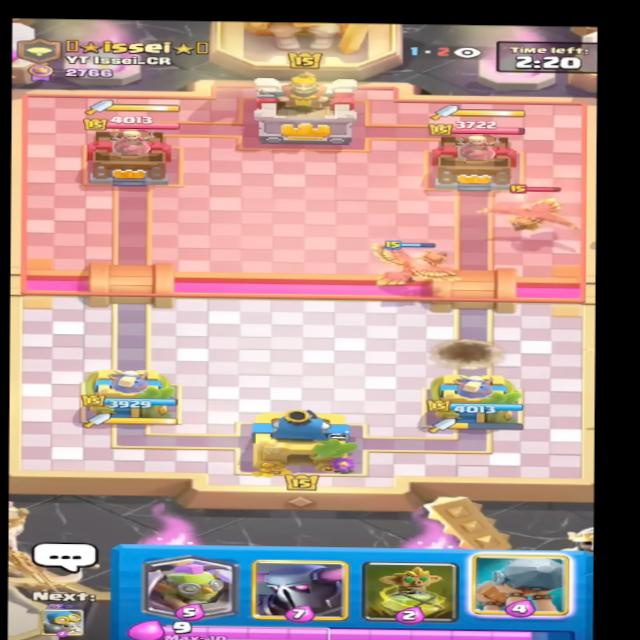phoenix: (470, 183, 583, 234)
